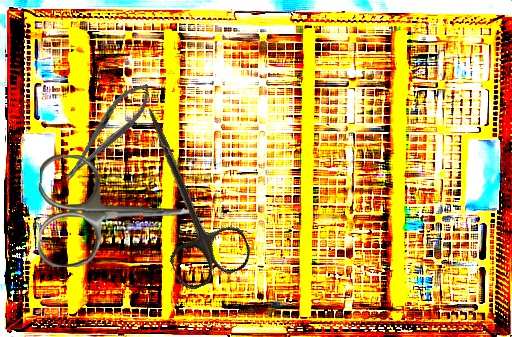Iris Scissors: (109, 94, 257, 294), (38, 154, 190, 270)
Needle Holder: (55, 74, 160, 189)
